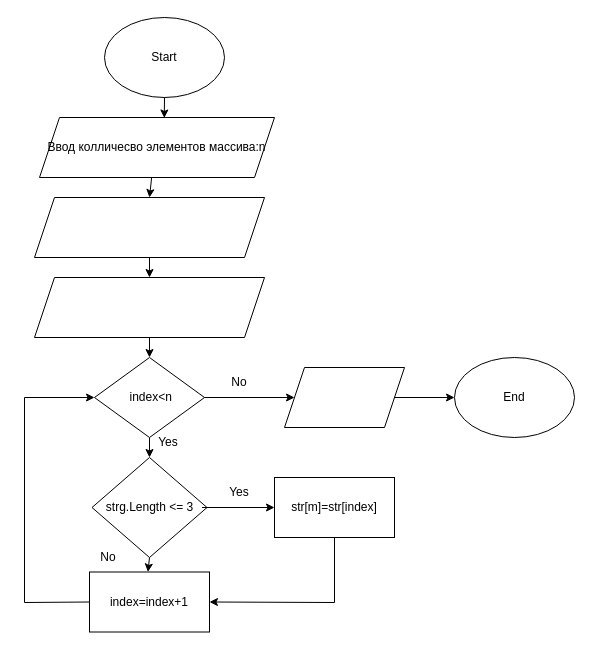
Image size: 592x650. Some labels were removed from this diagram. Here are the shapes that lost their labels. From the top down, the box of each, then its label:
(34, 196, 264, 258): Ввод строковых элементов массива: str[index]
(34, 276, 264, 338): Вывод на экран элементов массива которые ввели:str[index]
(284, 366, 404, 428): Вывод:str[m]
